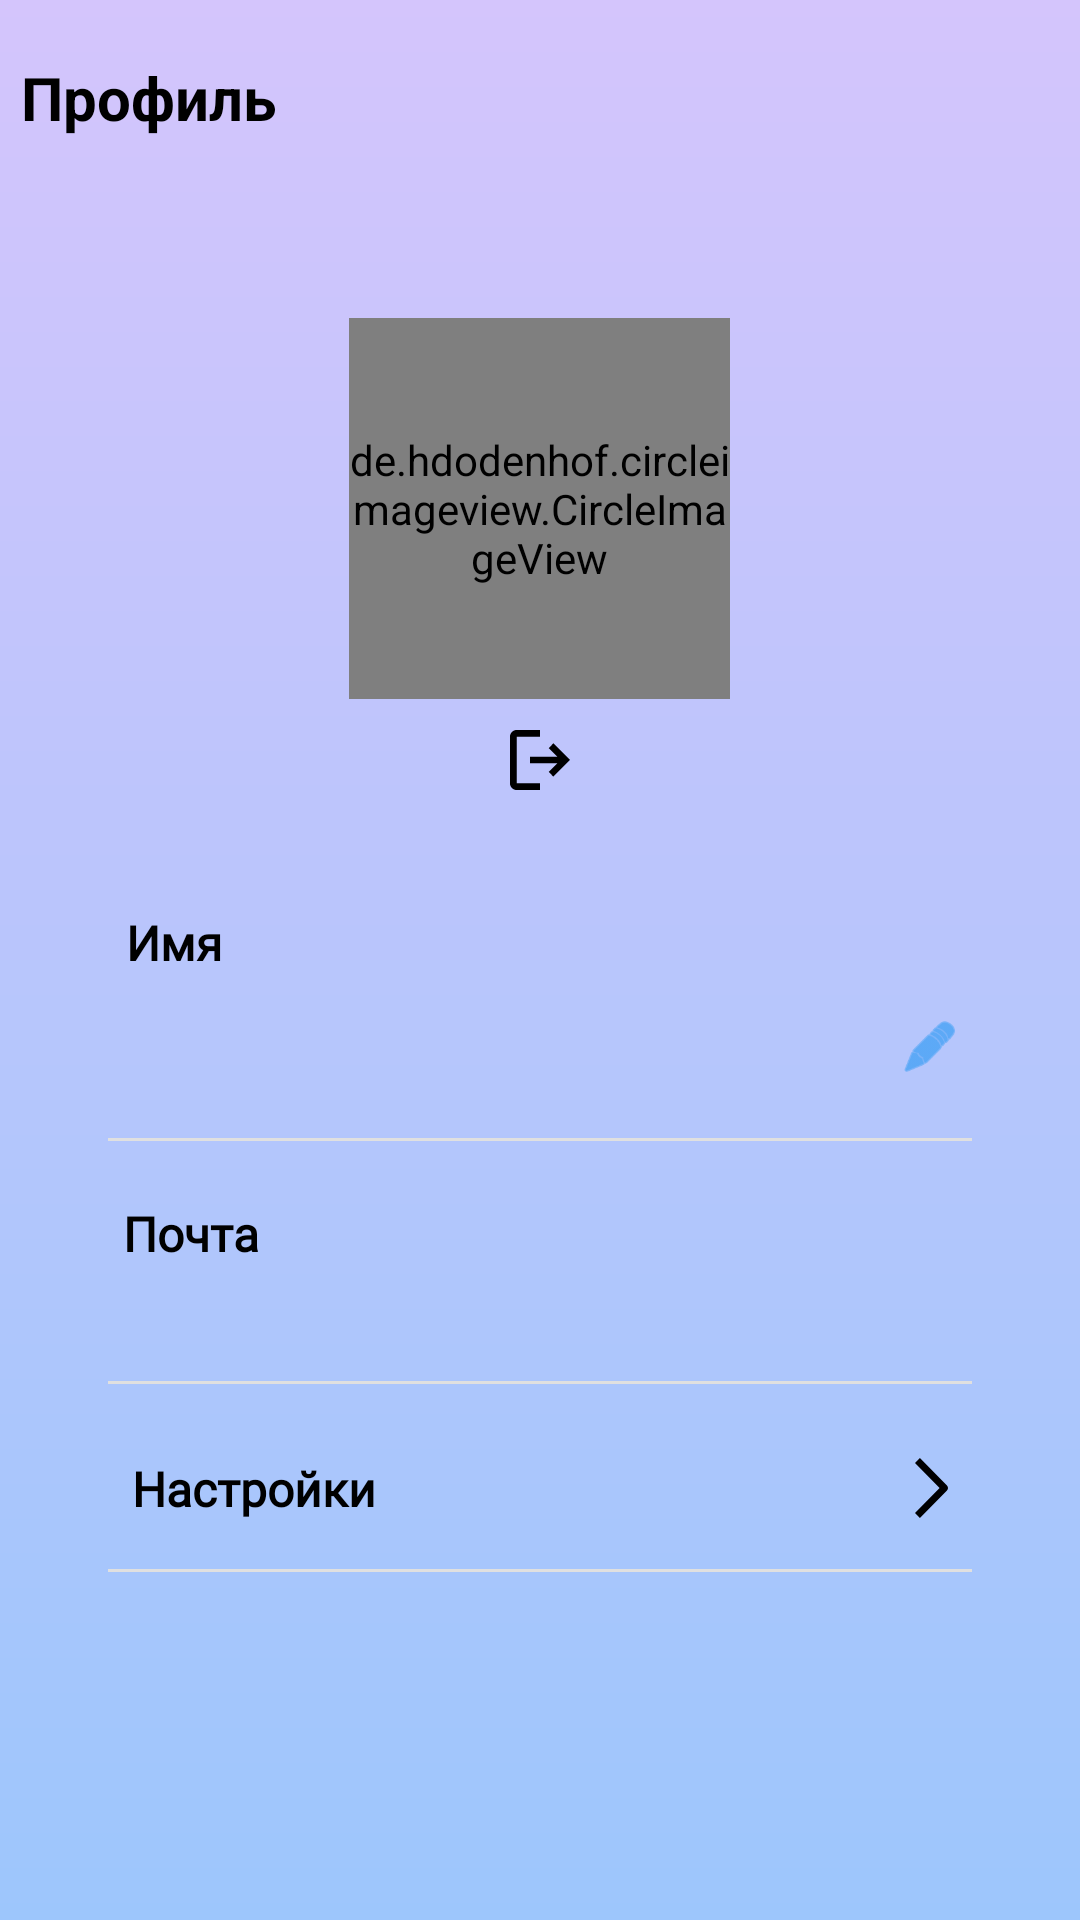

Icon click points for this 1080x1920 phone screenshot, format point (x, y):
edit: point (929, 1046)
